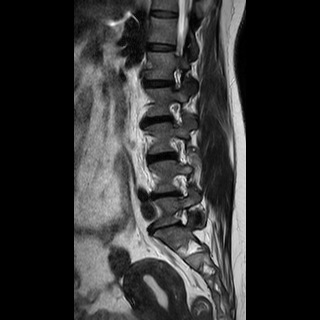LFS0: (163, 95, 190, 131), (167, 202, 195, 234), (164, 63, 189, 95)
